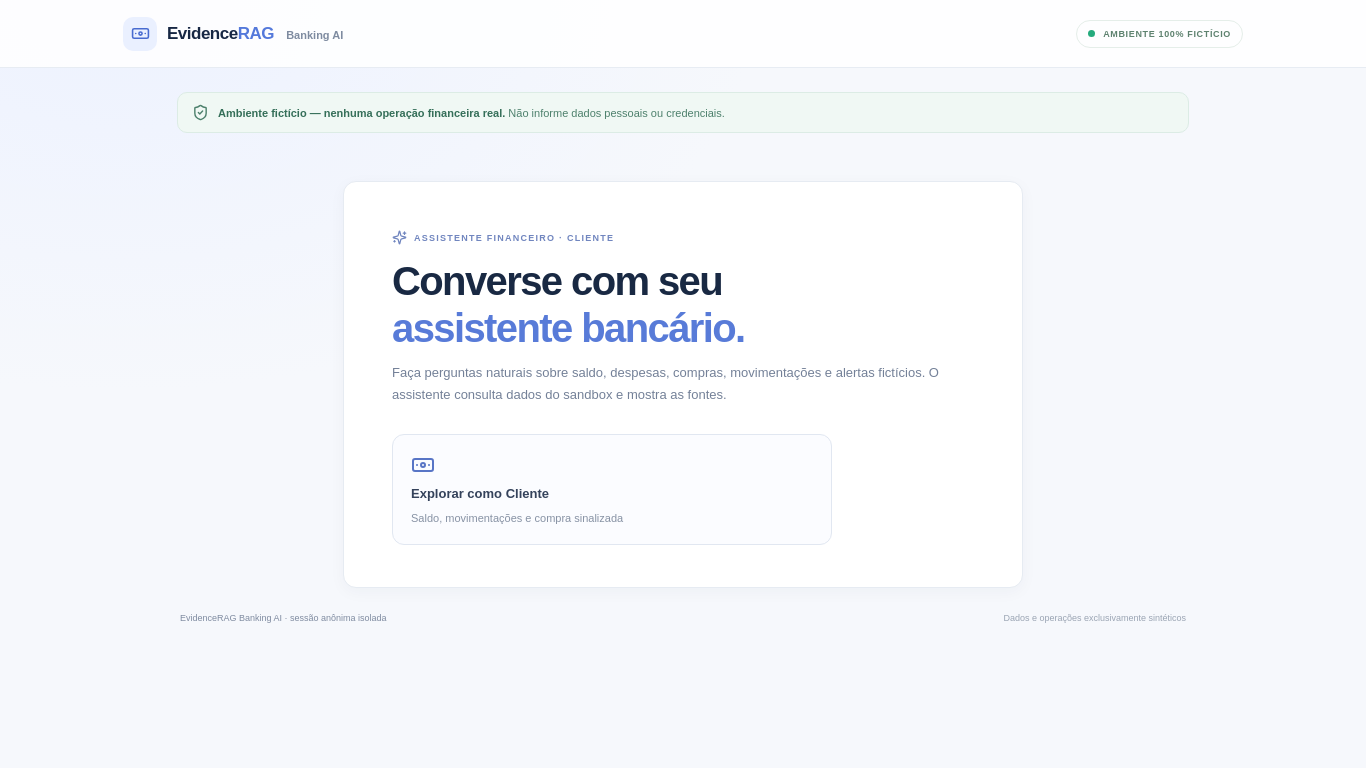
BankingDemo › submits natural language without a module and renders grounded, human-readable sources
The width and height of the screenshot is (1366, 768).
Click the button "Explorar como Cliente" at coordinates (480, 493), box [392,434,832,545]
(page scrolled)
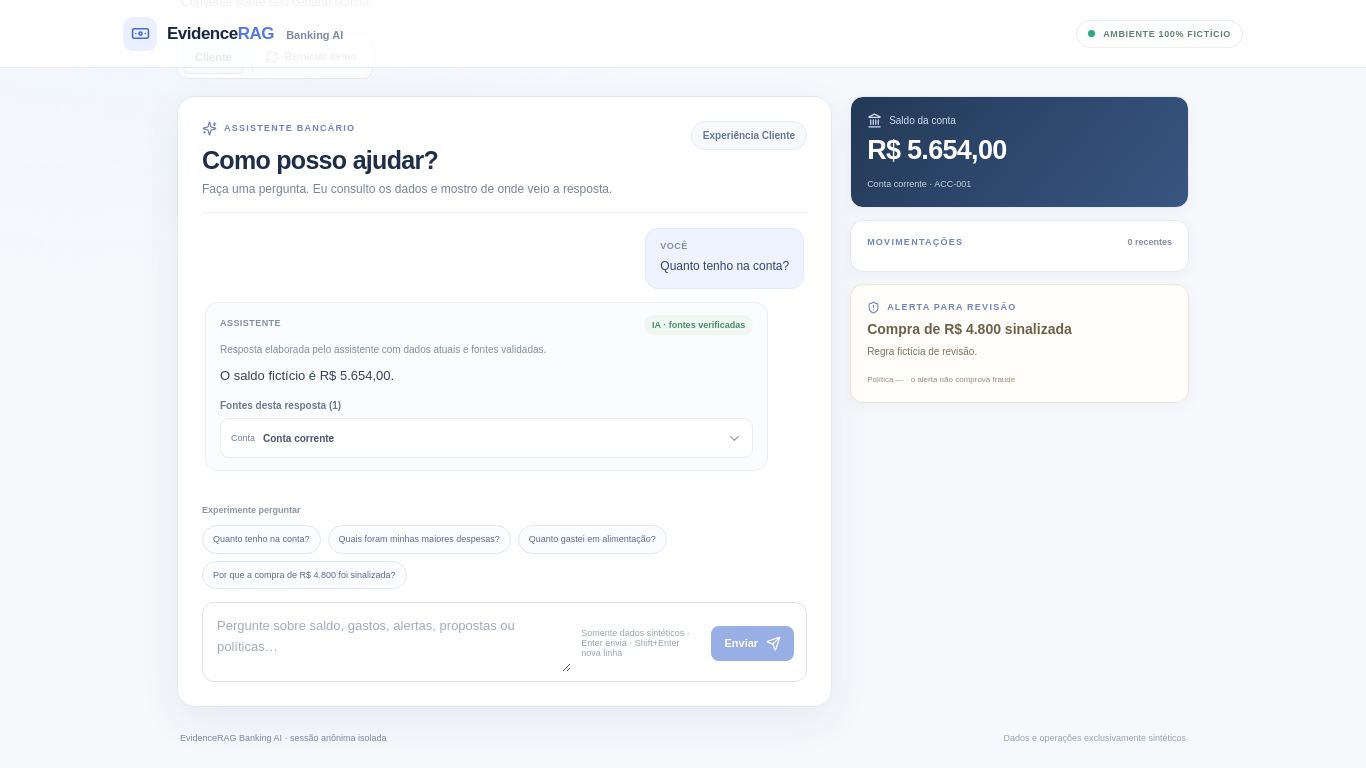
Replace the text in the text box named "Pergunte ao assistente" with "Quanto tenho na conta?" at coordinates (393, 643), box [215,614,571,672]
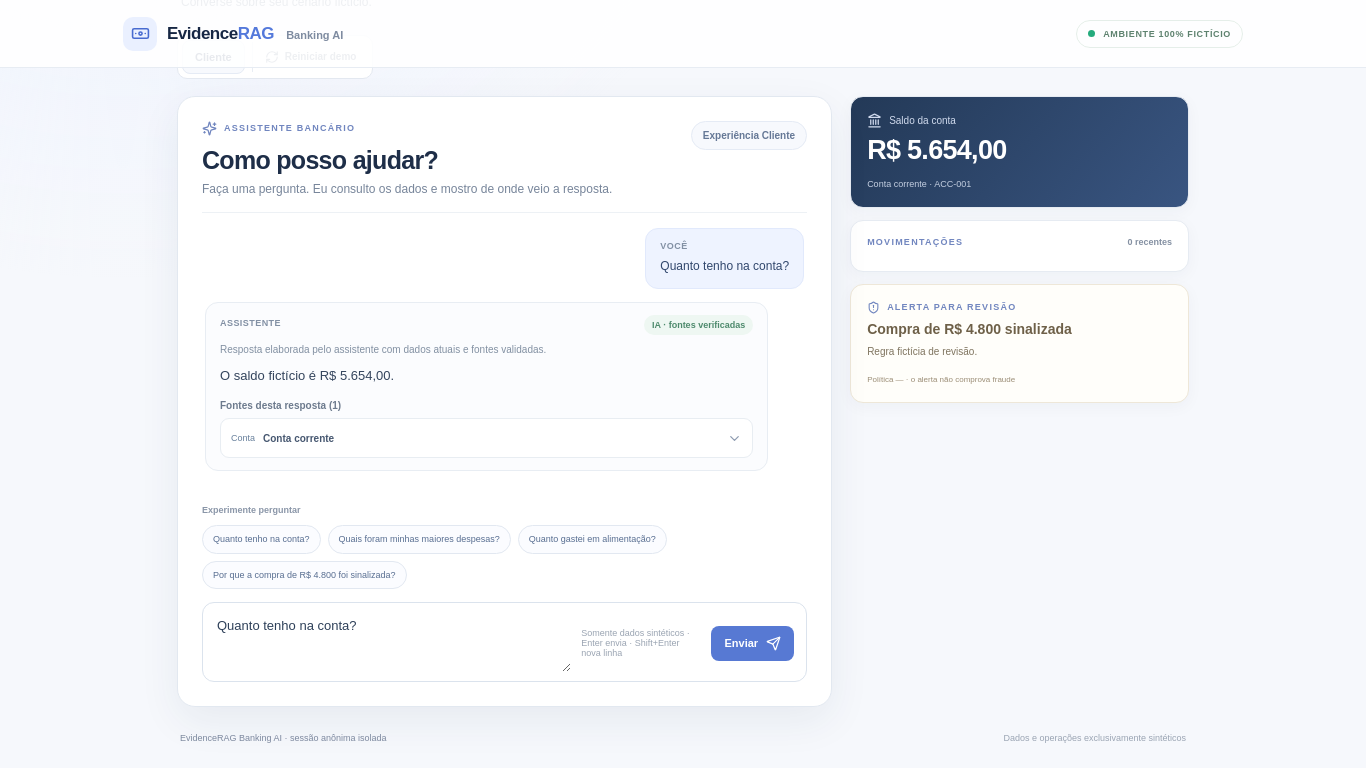
Click the button with aria-label "Enviar pergunta" at coordinates (753, 643), box [712,626,794,661]
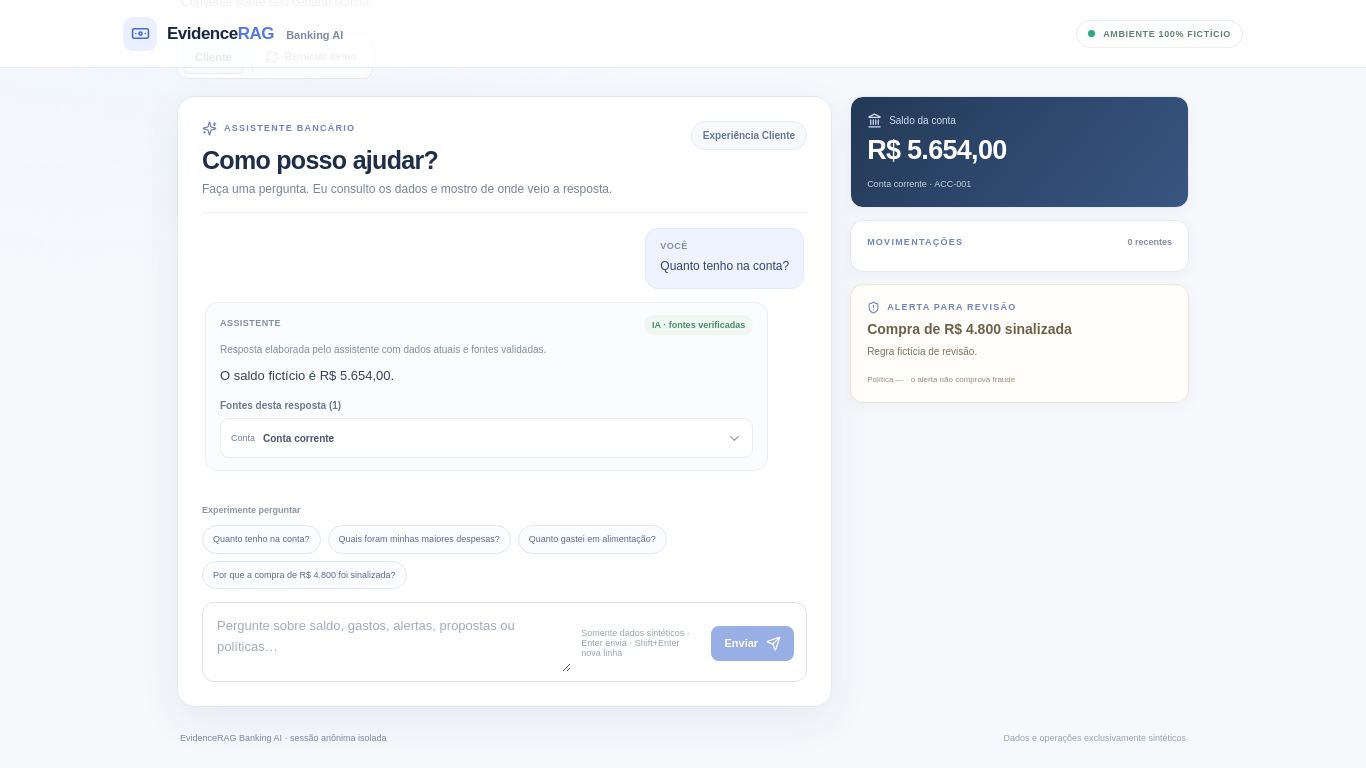
Expected: the text "Resposta elaborada pelo assistente com dados atuais e fontes validadas." is shown, [220,344,546,355]
Expected: the text "Conta corrente" is shown, [263,433,334,444]
Click the heading "Conta Conta corrente" at coordinates (299, 438), box [231,431,742,446]
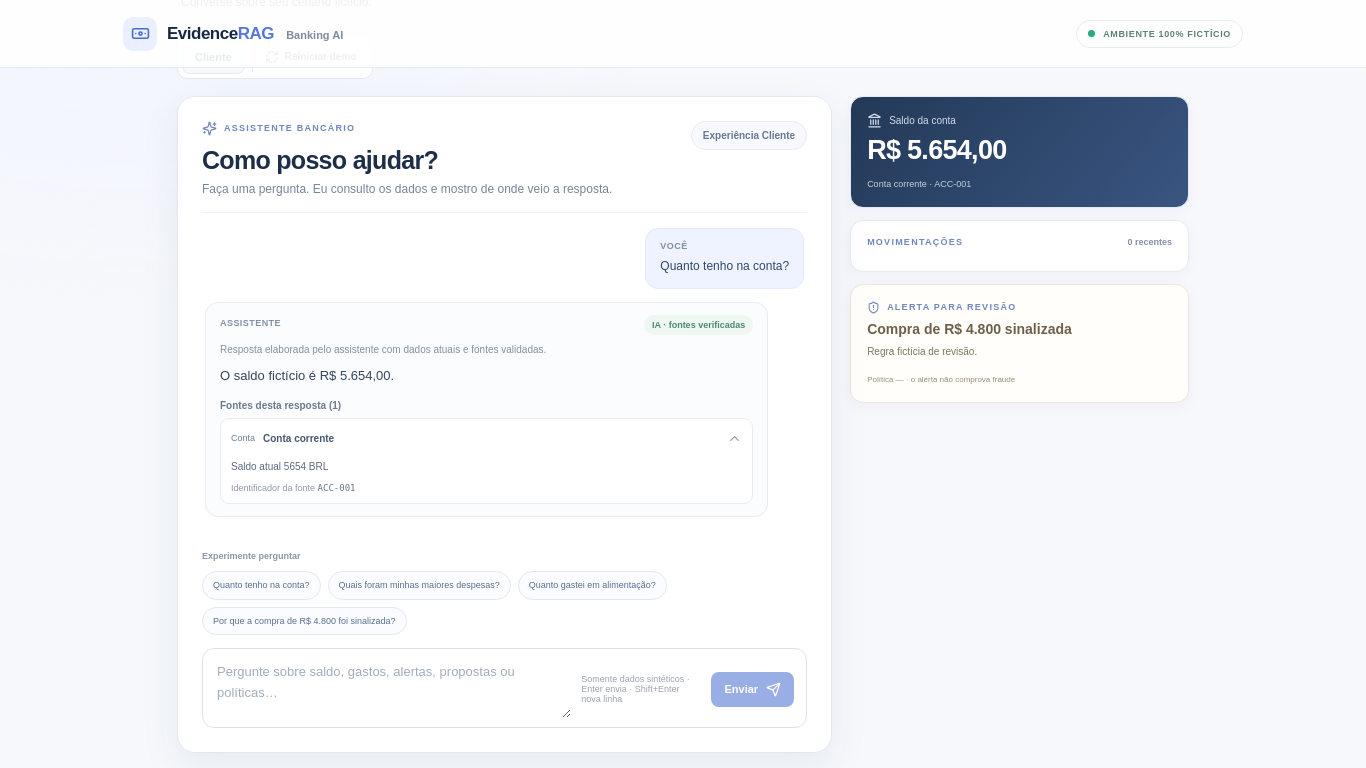
Expected: the text "ACC-001" is shown, [318,483,356,493]
